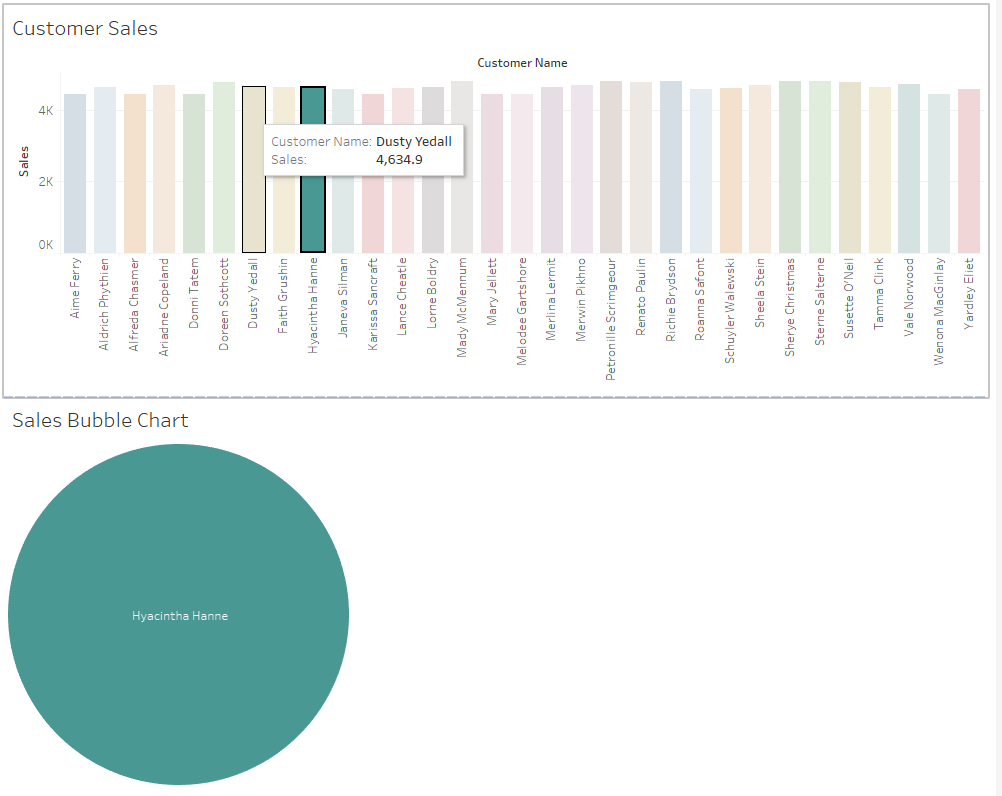

The dashboard page shown, as its layout file describes it:
{"tool":"tableau","page":{"name":"Dashboard","canvas":[1000,800],"ordinal":0},"visuals":[{"type":"worksheet","title":"Customer Sales","mark":"Automatic","rows":["Sales"],"cols":["Customer Name"],"box":[8,8,984,392]},{"type":"worksheet","title":"Sales Bubble Chart","mark":"Circle","box":[8,400,984,392]}]}

Visuals, with their boxes in screenshot pixels (x1, y1, x2, y2), scaled from the page's 1000x800 canvas onto the 1002x796 screenshot:
"Customer Sales" worksheet: <bbox>8, 8, 994, 398</bbox>
"Sales Bubble Chart" worksheet (Circle marks): <bbox>8, 398, 994, 788</bbox>
